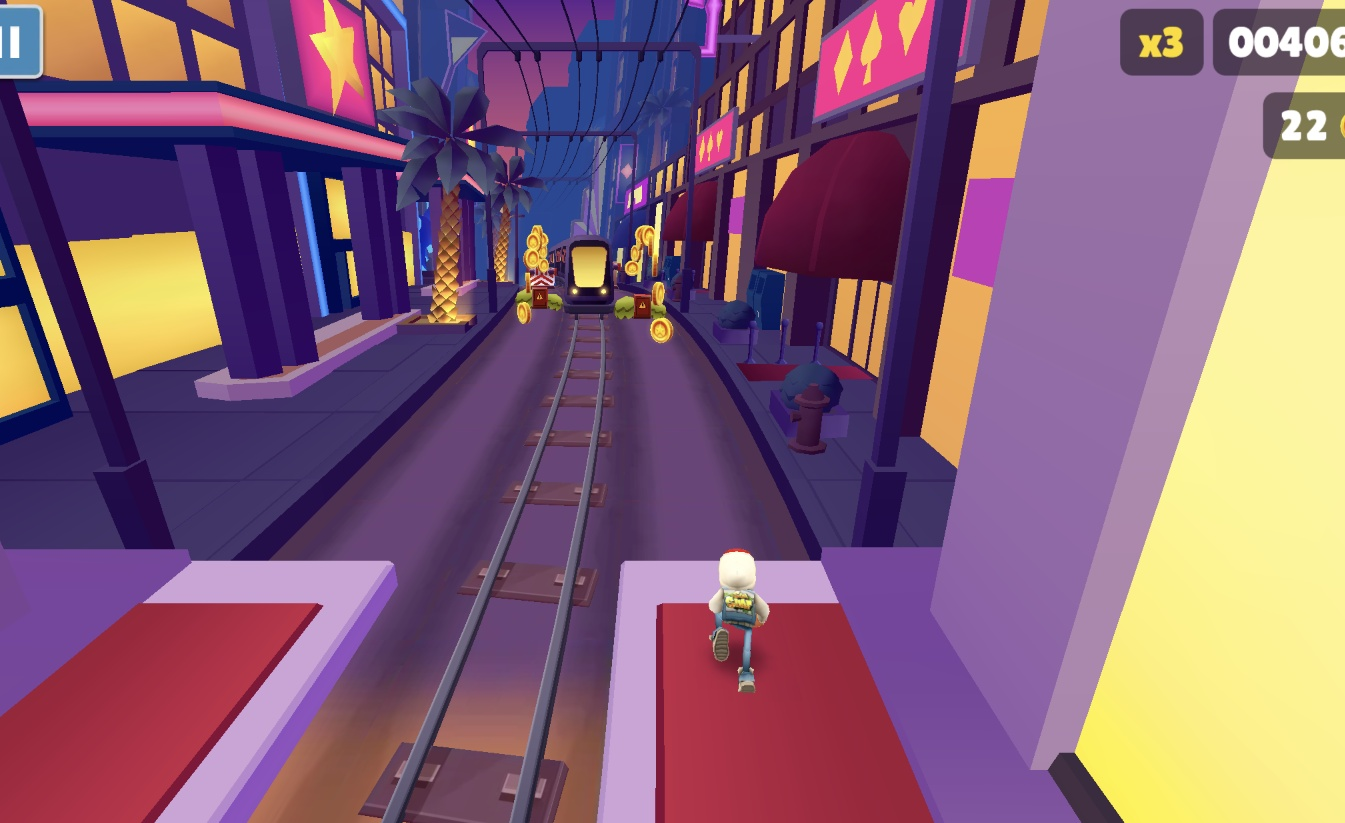bush: (609, 299, 629, 325), (646, 304, 663, 325), (512, 289, 527, 310), (543, 295, 557, 313)
ground_barrier: (525, 255, 557, 286)
small_obstacle: (629, 299, 646, 323), (527, 287, 543, 311)
train: (549, 237, 617, 317)
